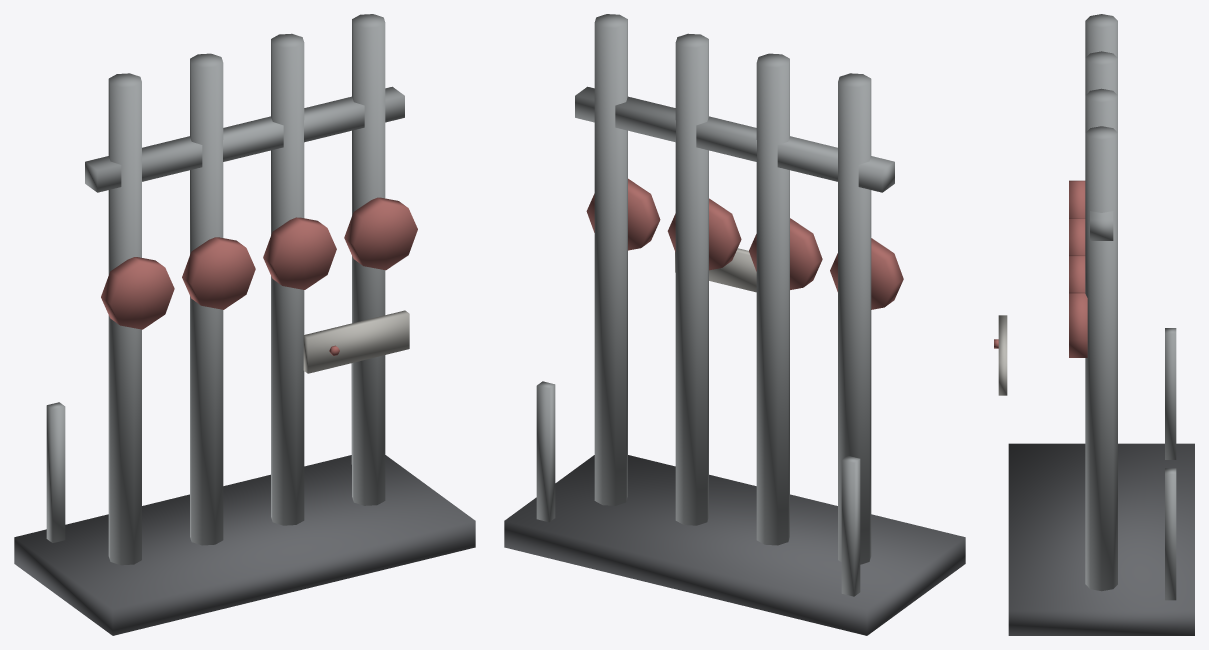
The model's file is sprinkler_riser__reinforced.glb.
3 views of the same model, side by side, from view 1: azimuth 30°, elevation 25°; view 2: azimuth 150°, elevation 25°; view 3: azimuth 270°, elevation 25° (orthographic). The views are drawn at different scales.
Parts seen in each view (by area): view 1: world; view 2: world; view 3: world.
Part boxes in pixels (<box>): world: <box>14,14,475,635</box>; world: <box>504,14,965,635</box>; world: <box>994,14,1194,635</box>.
Size of the model in its own units: 0.8755 by 1.16 by 0.4439.
